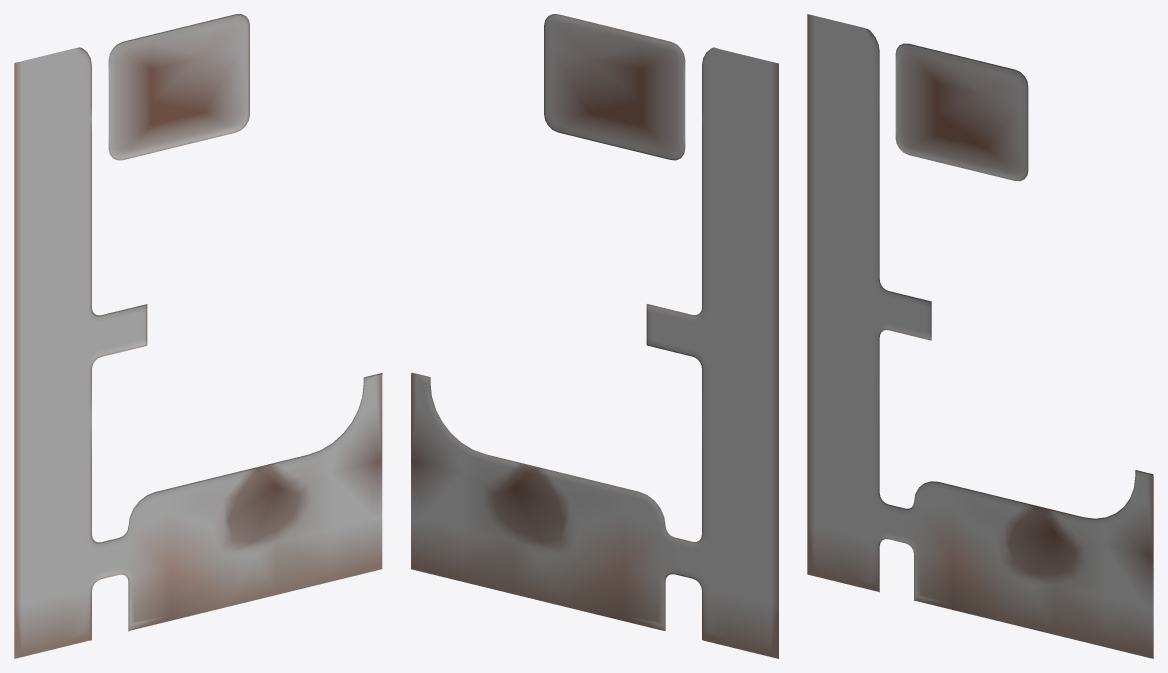
The model's file is SM_000467_w40h007_sand__lv1.fbx.
3 views of the same model, side by side, from view 1: azimuth 30°, elevation 25°; view 2: azimuth 150°, elevation 25°; view 3: azimuth 330°, elevation 25° (orthographic). The views are drawn at different scales.
Visible parts, largest first — view 1: SM_000467.001; view 2: SM_000467.001; view 3: SM_000467.001.
Part boxes in pixels (box(x1,y1,x2,y2)): SM_000467.001: box(14, 14, 382, 658); SM_000467.001: box(411, 14, 778, 658); SM_000467.001: box(807, 14, 1153, 658).
Size of the model in its own units: 27.55 by 42.64 by 0.0489.
